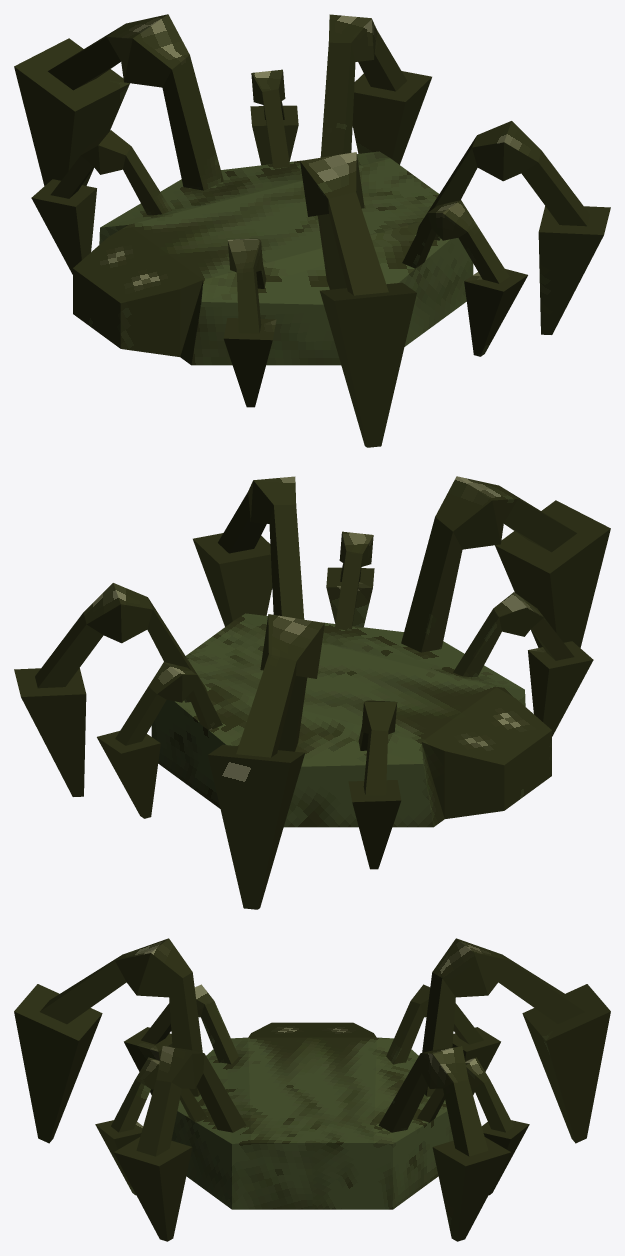
The model's file is Roomba.glb.
3 views of the same model, one above another, from view 1: azimuth 30°, elevation 25°; view 2: azimuth 150°, elevation 25°; view 3: azimuth 270°, elevation 25° (orthographic). The views are drawn at different scales.
Parts seen in each view (by area): view 1: Roomba; view 2: Roomba; view 3: Roomba.
Boxes of the visible parts, x1,y1,x2,y2 form: Roomba: [14, 14, 610, 447]; Roomba: [14, 476, 610, 909]; Roomba: [14, 938, 610, 1241].
Bounding box in the file's own units: 1.02 × 0.5536 × 1.45.
Materials: 1 (1 with a texture image).
